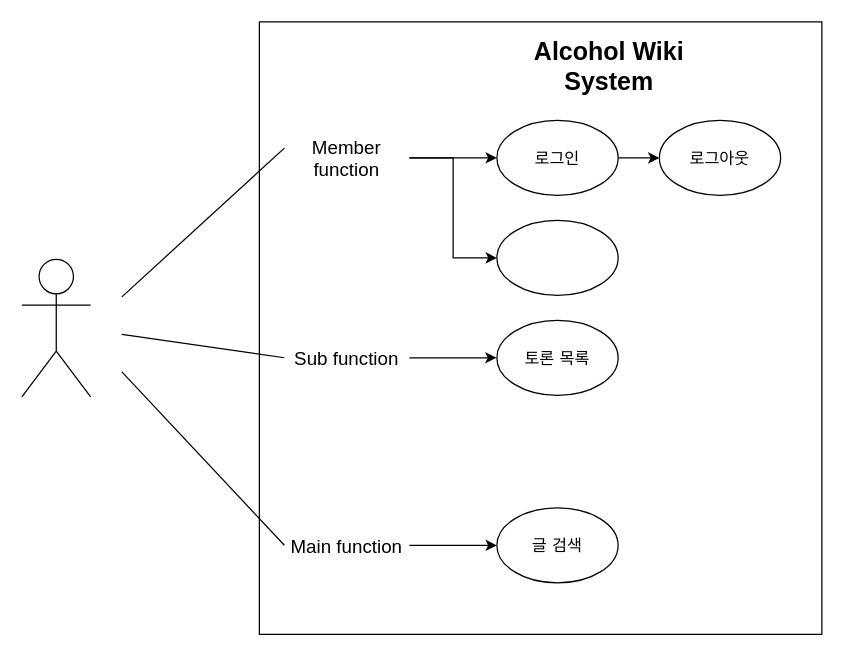
This 844x656 diagram has some shape labels left out. Here are the shapes that lost their labels. From the top down, the centre of each, then its label:
(x=557, y=257): 정보수정
(x=56, y=327): Block Member
